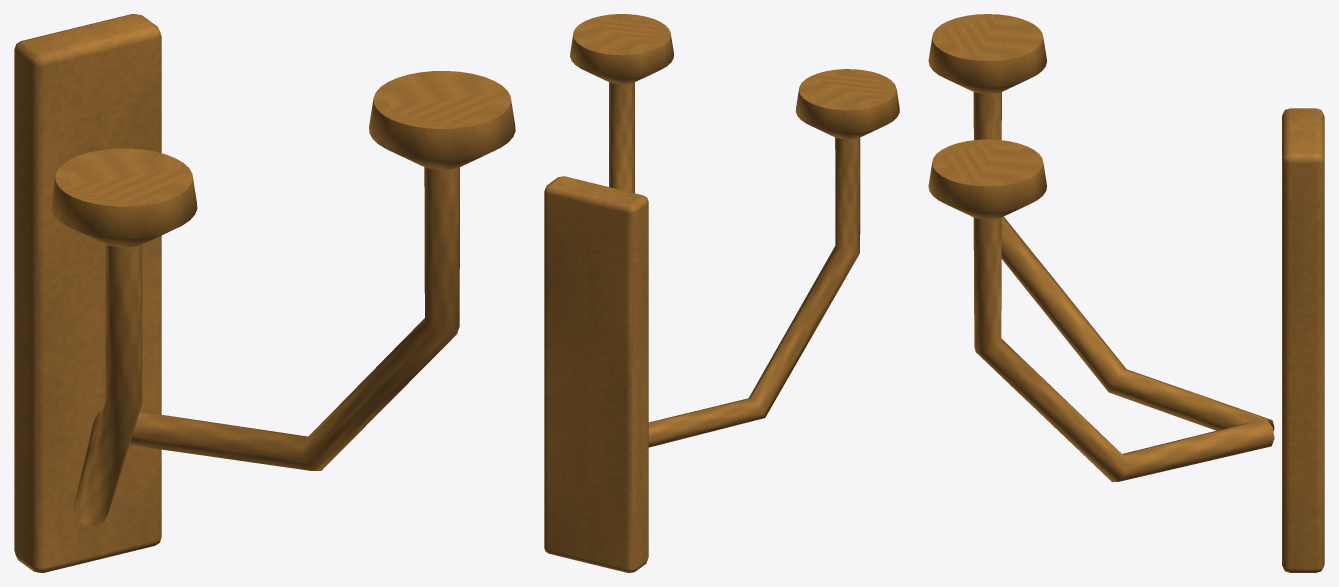
File: wall_sconce.glb
3 views of the same model, side by side, from view 1: azimuth 30°, elevation 25°; view 2: azimuth 150°, elevation 25°; view 3: azimuth 270°, elevation 25° (orthographic). The views are drawn at different scales.
Visible parts, largest first — view 1: AgedBrassSurface; view 2: AgedBrassSurface; view 3: AgedBrassSurface.
Part boxes in pixels (x1=…): AgedBrassSurface: x1=14, y1=14, x2=515, y2=572; AgedBrassSurface: x1=544, y1=14, x2=899, y2=572; AgedBrassSurface: x1=928, y1=14, x2=1324, y2=572.
Bounding box in the file's own units: 0.224 × 0.268 × 0.2135.
1 material, 1 textured.
